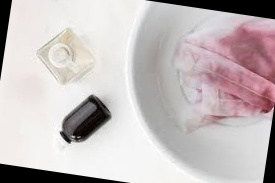wine: (180, 7, 275, 118)
